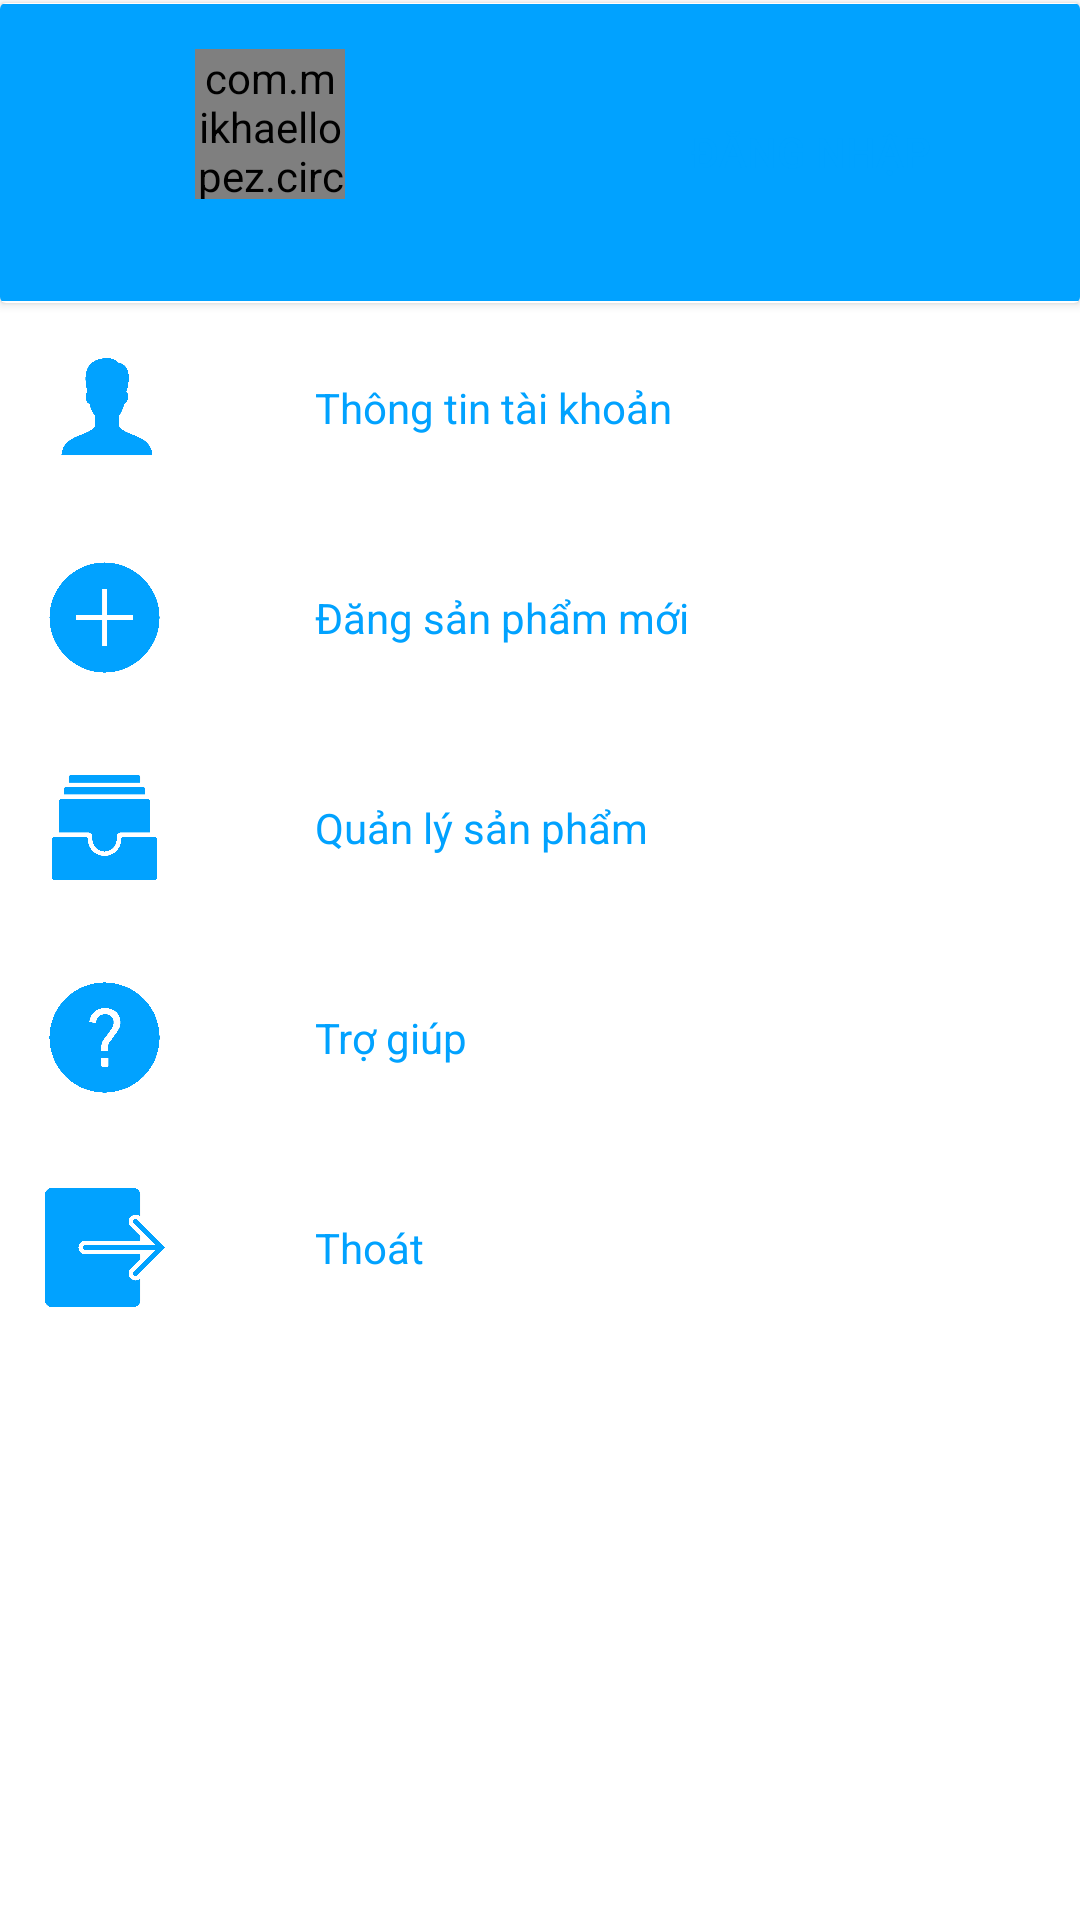

Named icons in this screenshot (1080×1920) and their bounding boxes, (x1, y1, x2, y2):
add pro: (49, 562, 160, 673)
exit: (45, 1188, 165, 1307)
help: (49, 982, 160, 1093)
manage product: (52, 775, 157, 880)
user: (61, 358, 152, 455)
